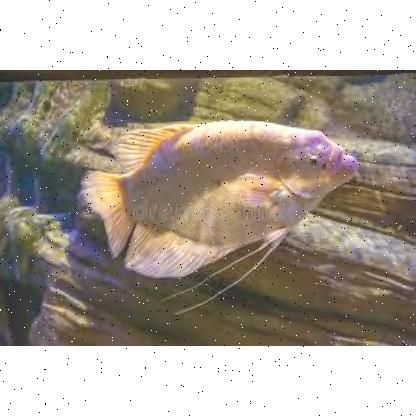gurame: (83, 118, 357, 274)
